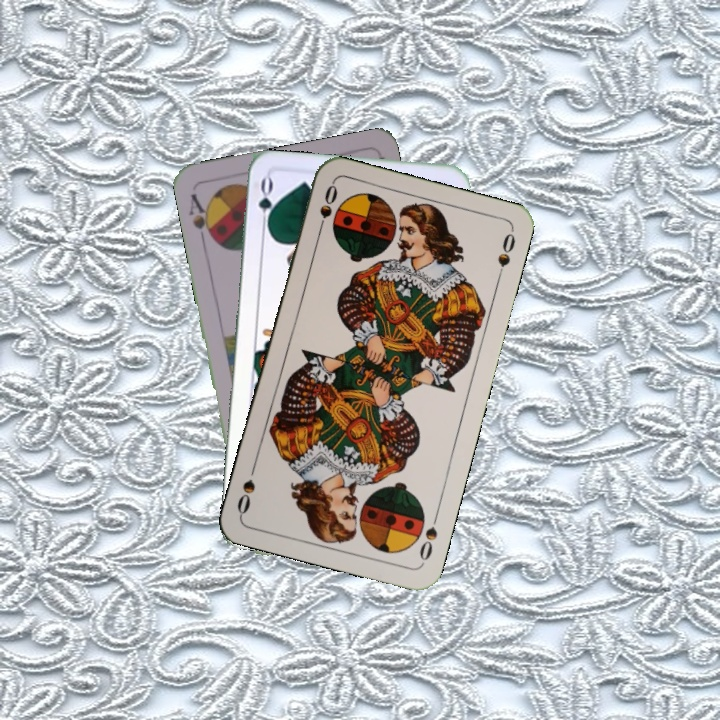GO: (254, 174, 276, 234)
SA: (185, 190, 218, 246)
SO: (313, 180, 340, 238), (415, 508, 442, 566)
